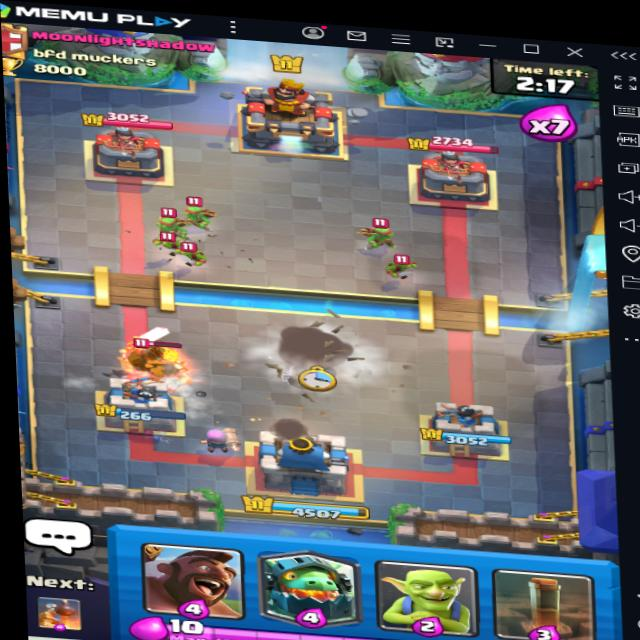goblin: (384, 247, 423, 284), (175, 236, 214, 269), (154, 224, 187, 256)
golden-knight: (119, 337, 211, 390)
spear-goblin: (253, 168, 294, 206), (214, 177, 256, 212), (352, 216, 394, 251)
